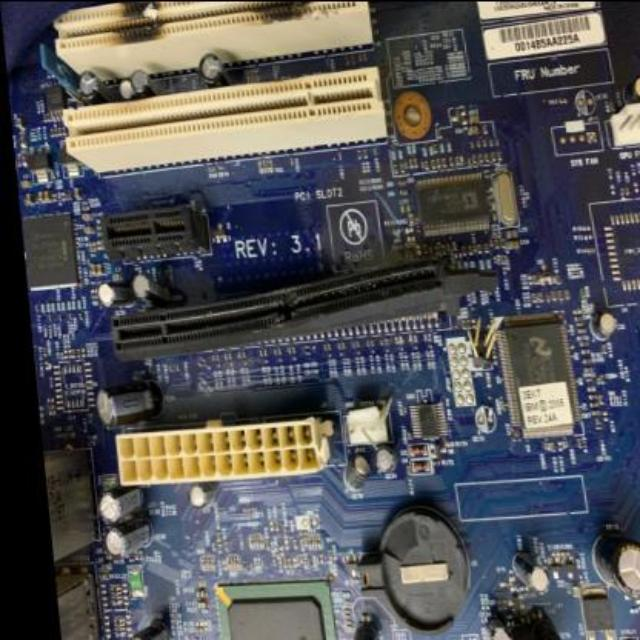PCB: (5, 2, 640, 640)
